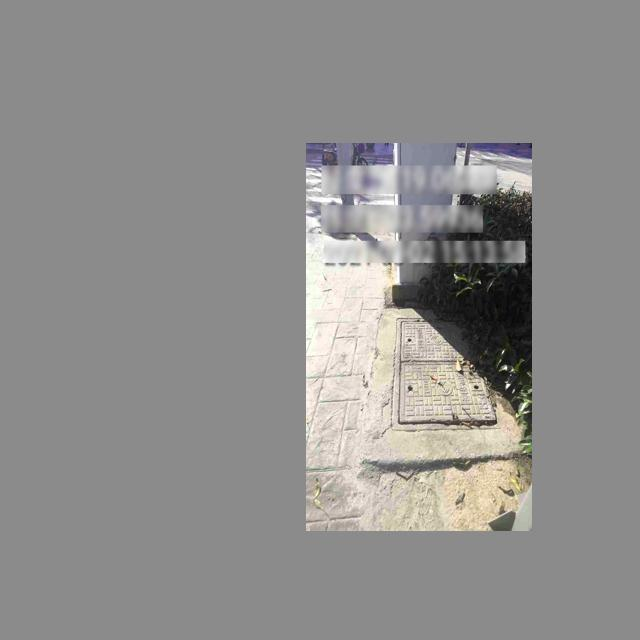good: (390, 317, 502, 428)
